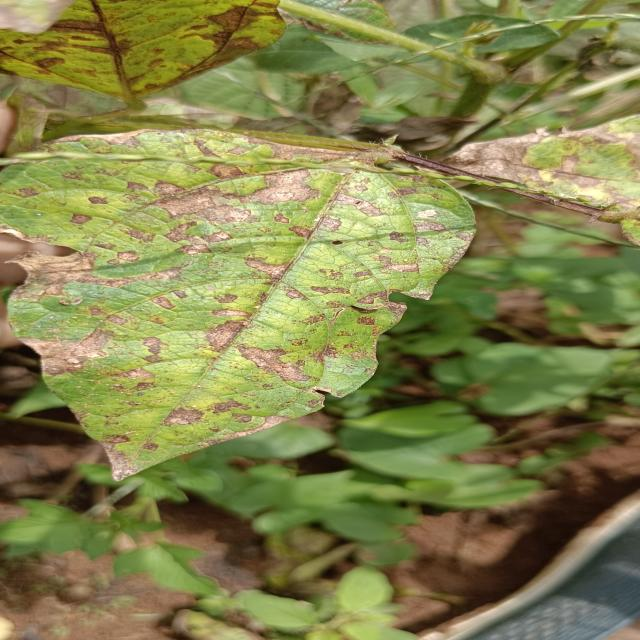Black gram_leaf spot: (0, 126, 498, 477), (0, 0, 283, 120), (454, 112, 640, 232)
